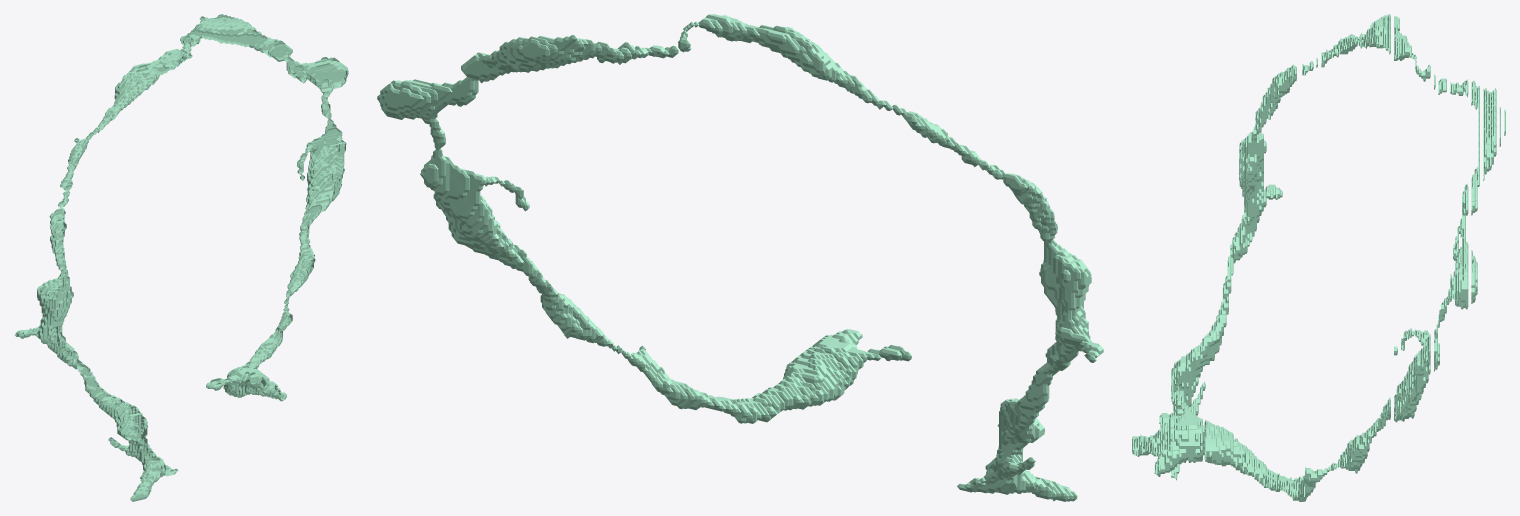
The model's file is SVV_AIBL.gltf.
The picture shows the model from 3 angles, left to right: view 1: azimuth 30°, elevation 25°; view 2: azimuth 150°, elevation 25°; view 3: azimuth 270°, elevation 25°; orthographic projection. The views are drawn at different scales.
Parts seen in each view (by area): view 1: AIBL; view 2: AIBL; view 3: AIBL.
Part boxes in pixels (x1,y1,x2,y2): AIBL: (14,14,348,501); AIBL: (377,14,1103,501); AIBL: (1132,14,1505,501).
Bounding box in the file's own units: 107064 × 90170 × 61194.
